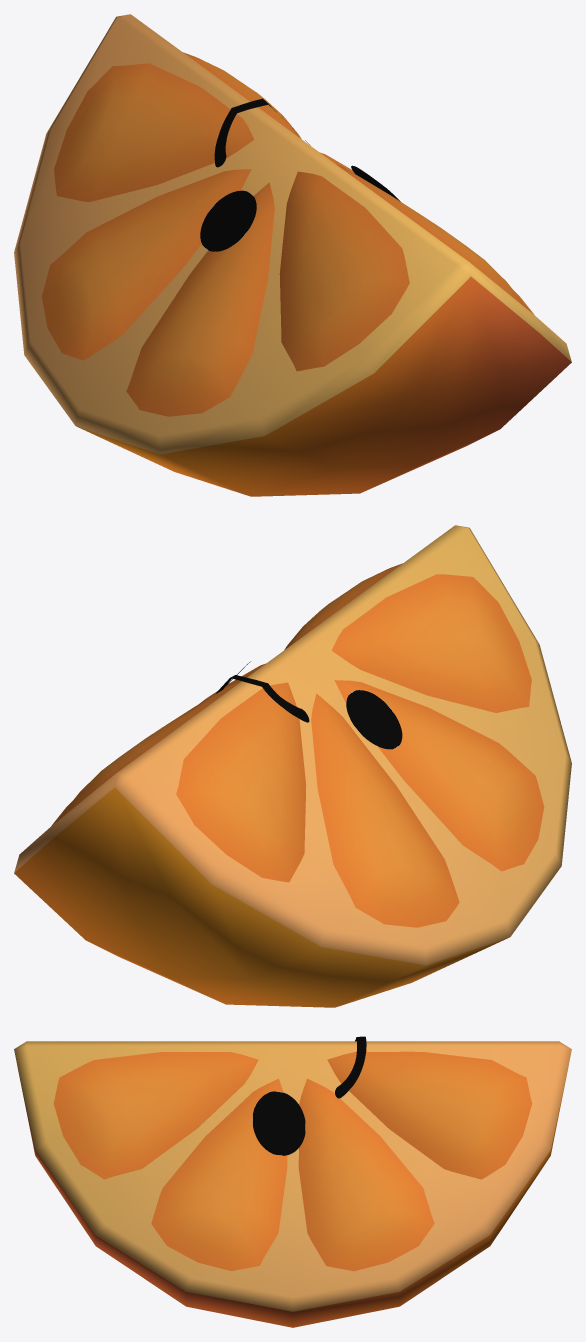
The model's file is orange_piece_smile.fbx.
3 renders of one model, top to bottom at view 1: azimuth 30°, elevation 25°; view 2: azimuth 150°, elevation 25°; view 3: azimuth 270°, elevation 25°, orthographic. The views are drawn at different scales.
Visible parts, largest first — view 1: orange_piece; view 2: orange_piece; view 3: orange_piece.
Boxes of the visible parts, <box> form: orange_piece: <box>14,14,571,496</box>; orange_piece: <box>14,525,571,1007</box>; orange_piece: <box>14,1036,571,1327</box>.
Bounding box in the file's own units: 19.43 × 27.47 × 14.2.
